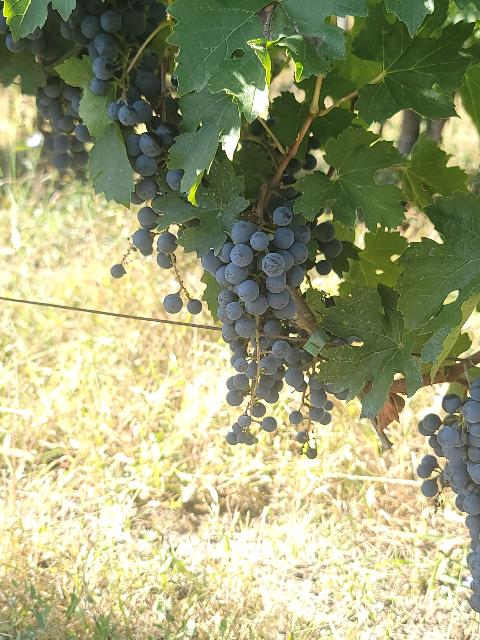grapes: (226, 320, 349, 459), (416, 376, 480, 611), (65, 0, 168, 129), (201, 206, 310, 319), (118, 101, 180, 201)
